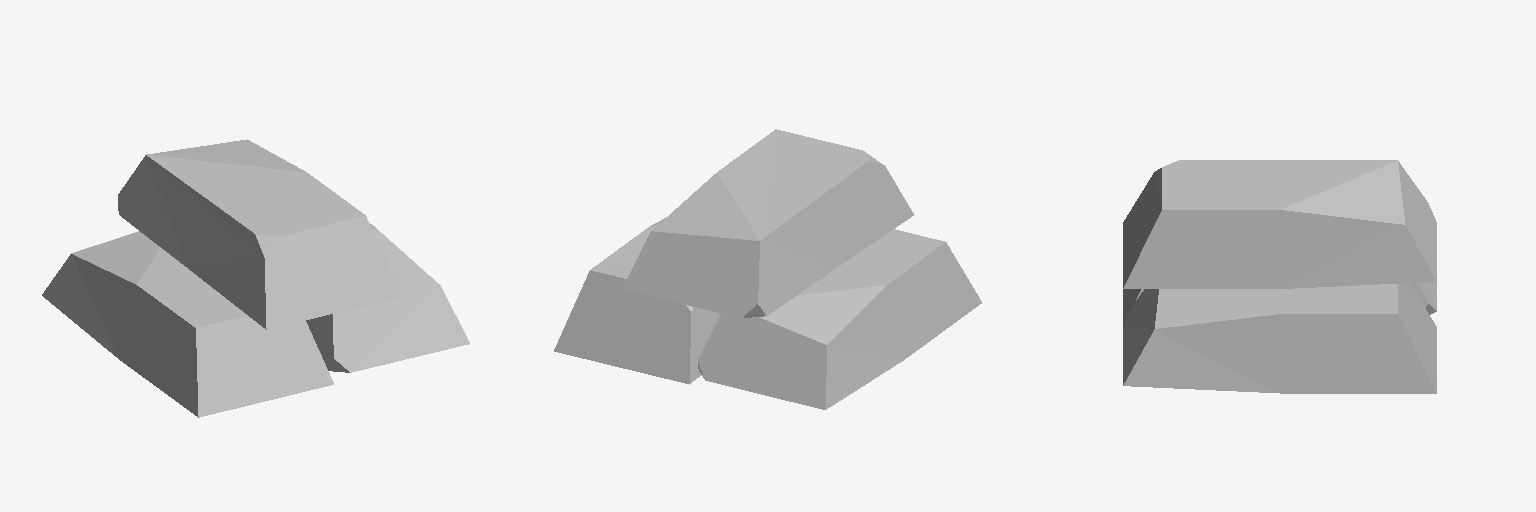
The model's file is Gold-08.obj.
3 views of the same model, side by side, from view 1: azimuth 30°, elevation 25°; view 2: azimuth 150°, elevation 25°; view 3: azimuth 270°, elevation 25° (orthographic).
Parts seen in each view (by area): view 1: Gold_08; view 2: Gold_08; view 3: Gold_08.
Boxes of the visible parts, <box> form: Gold_08: <box>42,139,469,417</box>; Gold_08: <box>554,129,981,409</box>; Gold_08: <box>1123,160,1436,393</box>.
Bounding box in the file's own units: 0.15 × 0.075 × 0.15.